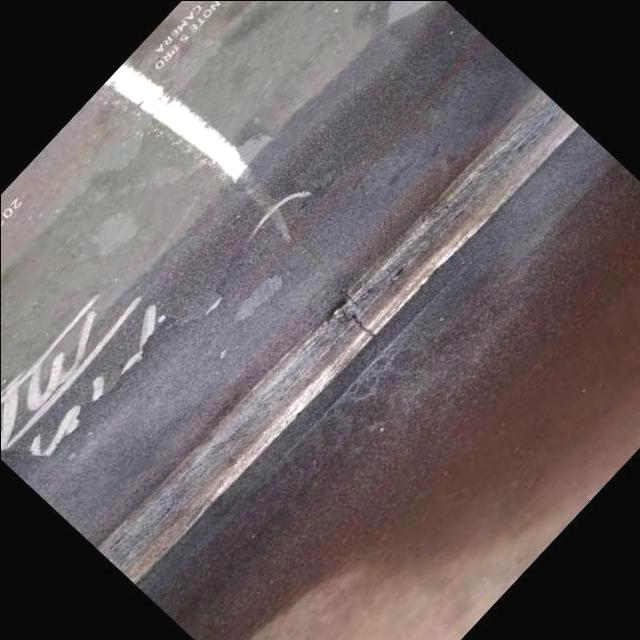defect: (333, 309, 377, 340)
